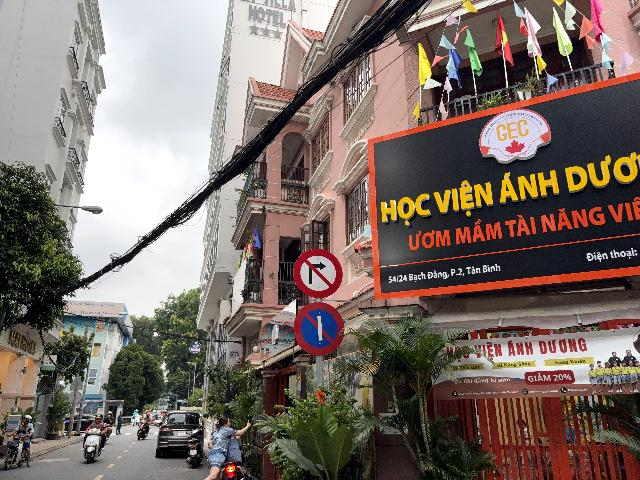cam-do-xe-ngay-le: (293, 302, 345, 356)
cam-re-phai: (293, 248, 343, 299)
